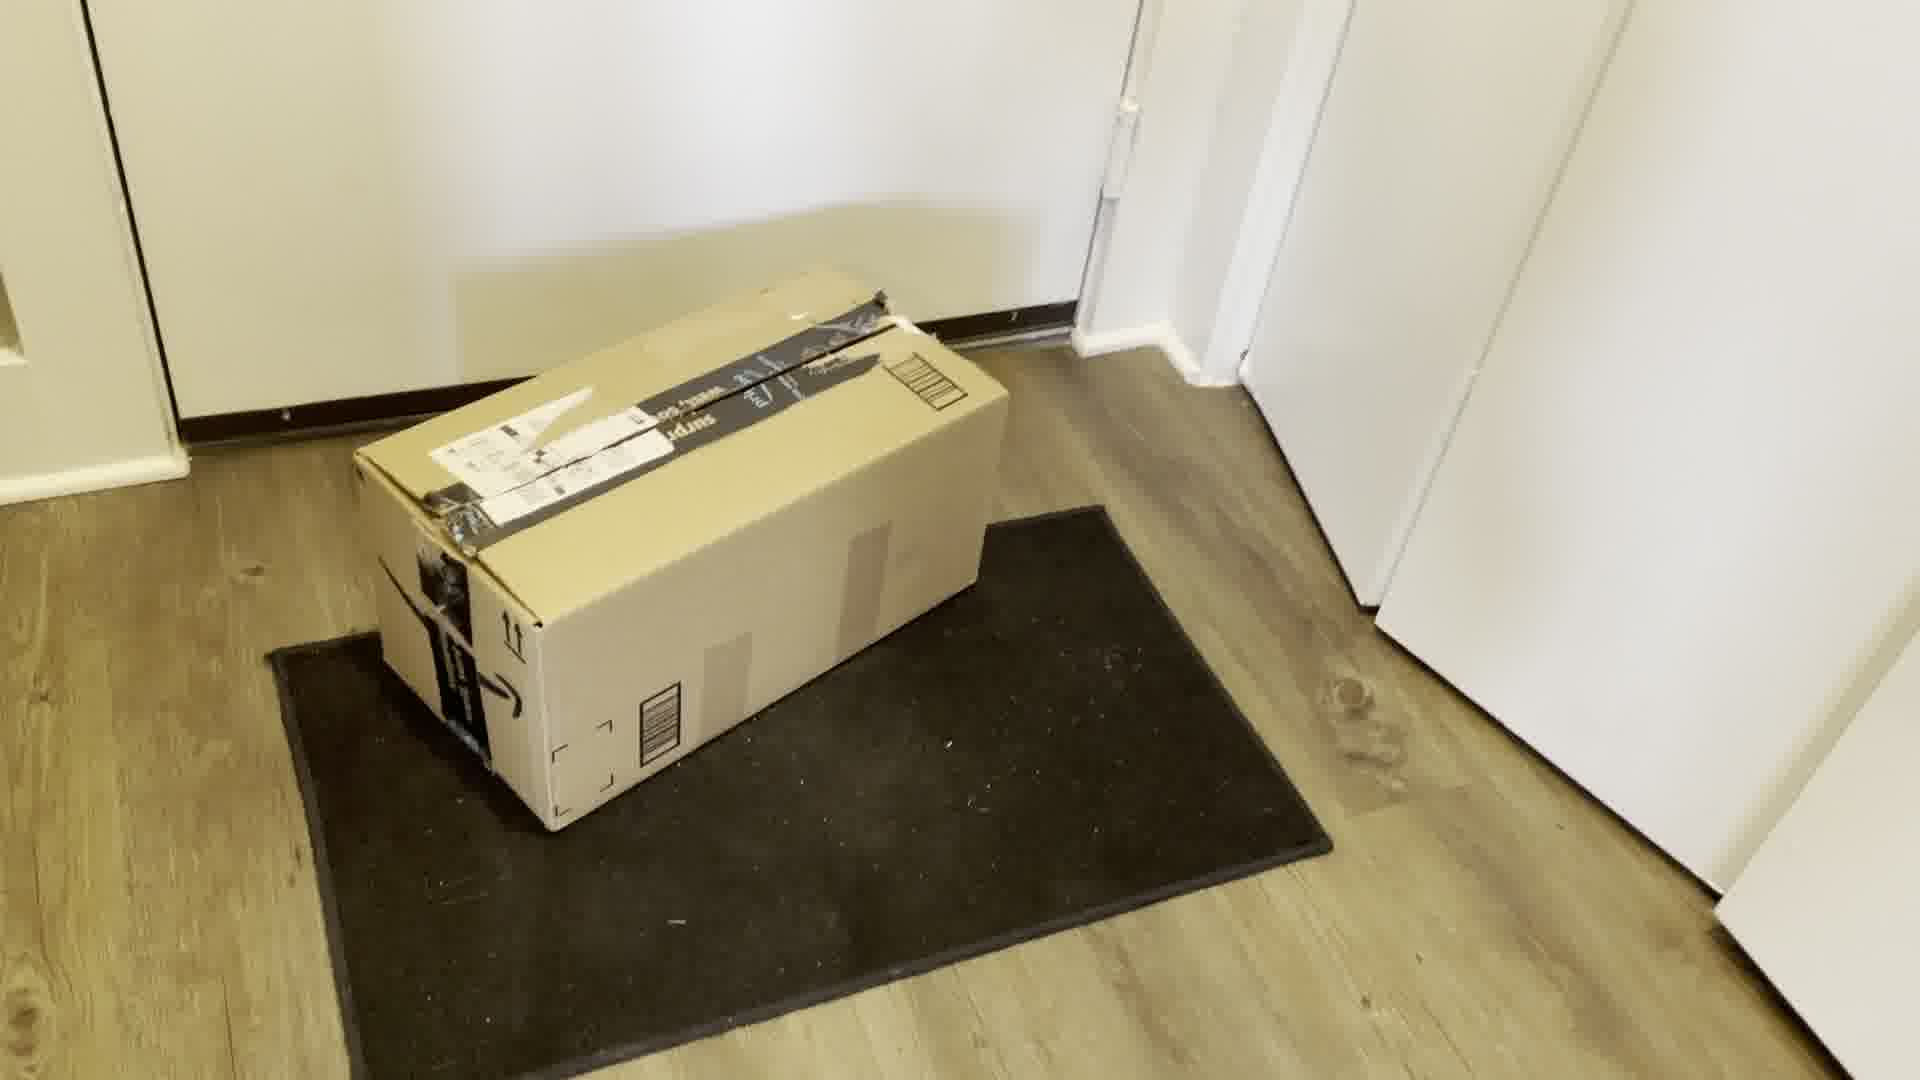box: (309, 245, 1011, 832)
